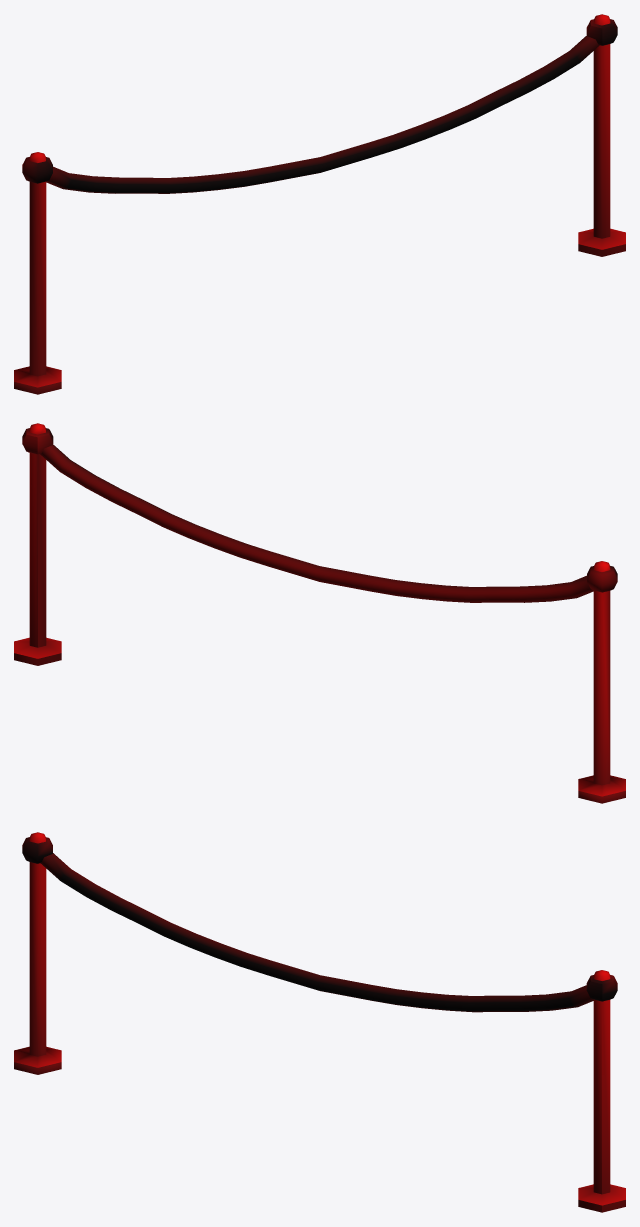
The model's file is Cordon.glb.
3 views of the same model, one above another, from view 1: azimuth 30°, elevation 25°; view 2: azimuth 150°, elevation 25°; view 3: azimuth 330°, elevation 25° (orthographic).
Visible parts, largest first — view 1: Cordon; view 2: Cordon; view 3: Cordon.
Part boxes in pixels (bbox=[...]): Cordon: bbox=[14, 14, 625, 394]; Cordon: bbox=[14, 423, 625, 803]; Cordon: bbox=[14, 832, 625, 1212].
Bounding box in the file's own units: 11.47 × 4.13 × 0.7746.
